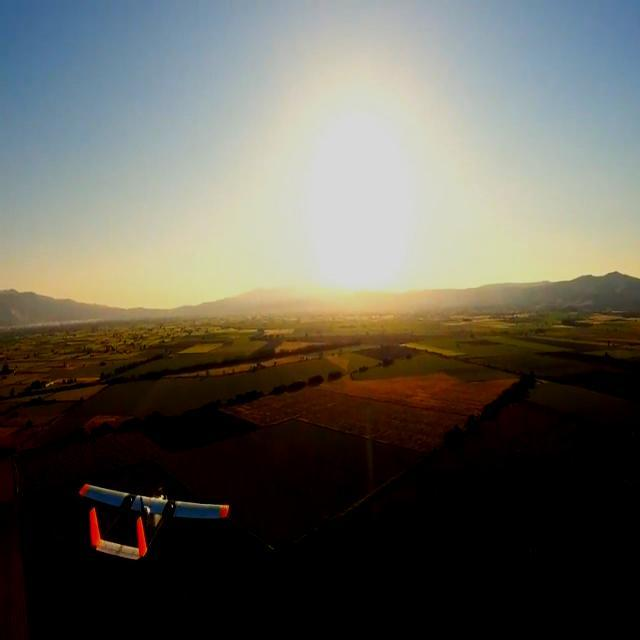iha: (58, 500, 236, 529)
